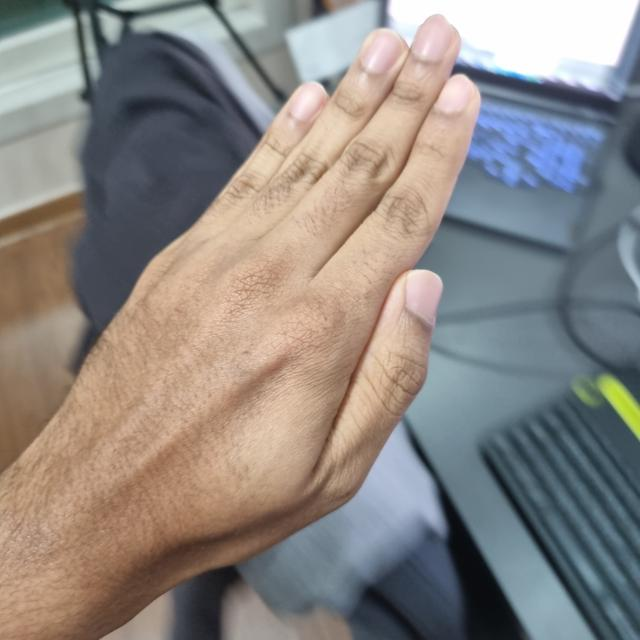Paper: (32, 18, 486, 639)
